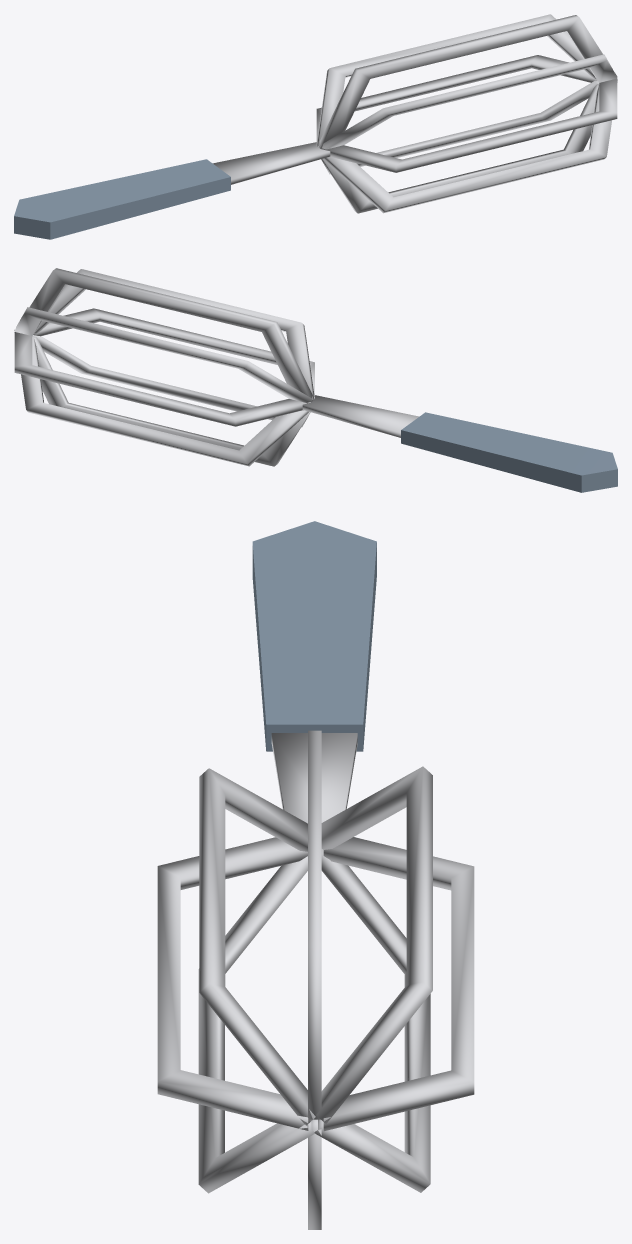
The model's file is whisk_visual.obj.
The picture shows the model from 3 angles, top to bottom: view 1: azimuth 30°, elevation 25°; view 2: azimuth 150°, elevation 25°; view 3: azimuth 270°, elevation 25°; orthographic projection. The views are drawn at different scales.
Visible parts, largest first — view 1: whisk; view 2: whisk; view 3: whisk.
Part boxes in pixels (x1,y1,x2,y2): whisk: (14,14,617,239); whisk: (14,268,617,492); whisk: (157,521,474,1229).
Bounding box in the file's own units: 0.725 × 0.1638 × 0.1655.
